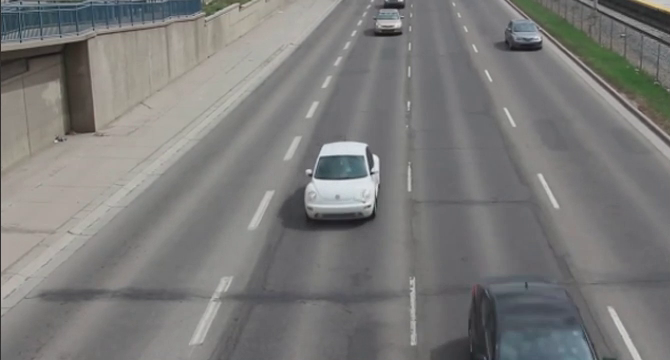car: (464, 279, 603, 360), (299, 138, 391, 225), (499, 15, 546, 52), (374, 7, 407, 38)
